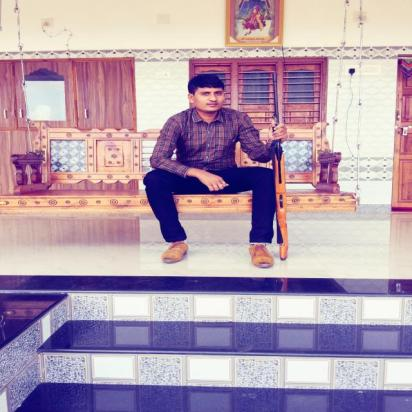Gun: (268, 71, 292, 262)
